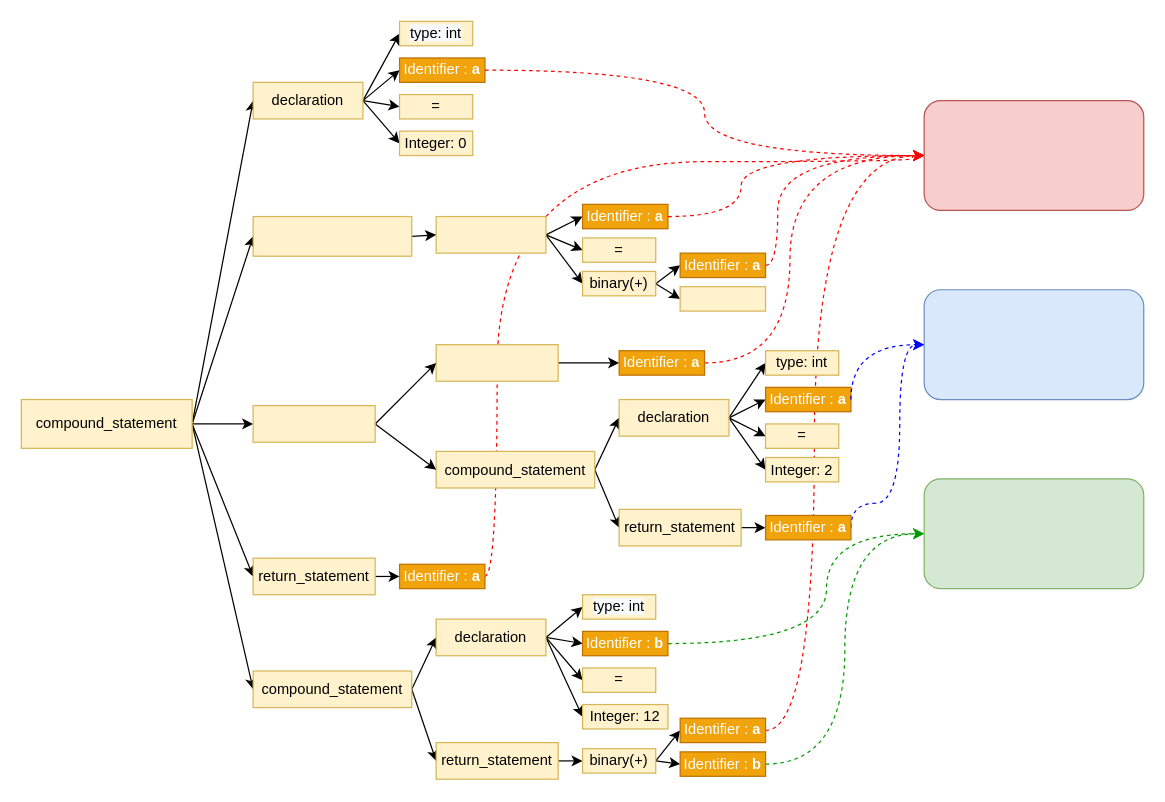
This 1165x802 diagram has some shape labels left out. Each missing label, with the centre of its shape:
assignment: the point at 490,234
expression: the point at 496,362
expression_statement: the point at 332,235
if_statement: the point at 313,423
Integer: 1: the point at 722,298
Variable { .name = "a", .frameaddr = 1, }: the point at 1033,154
Variable { .name = "a", .frameaddr = 2, }: the point at 1033,344
Variable { .name = "b", .frameaddr = 2, }: the point at 1033,533
